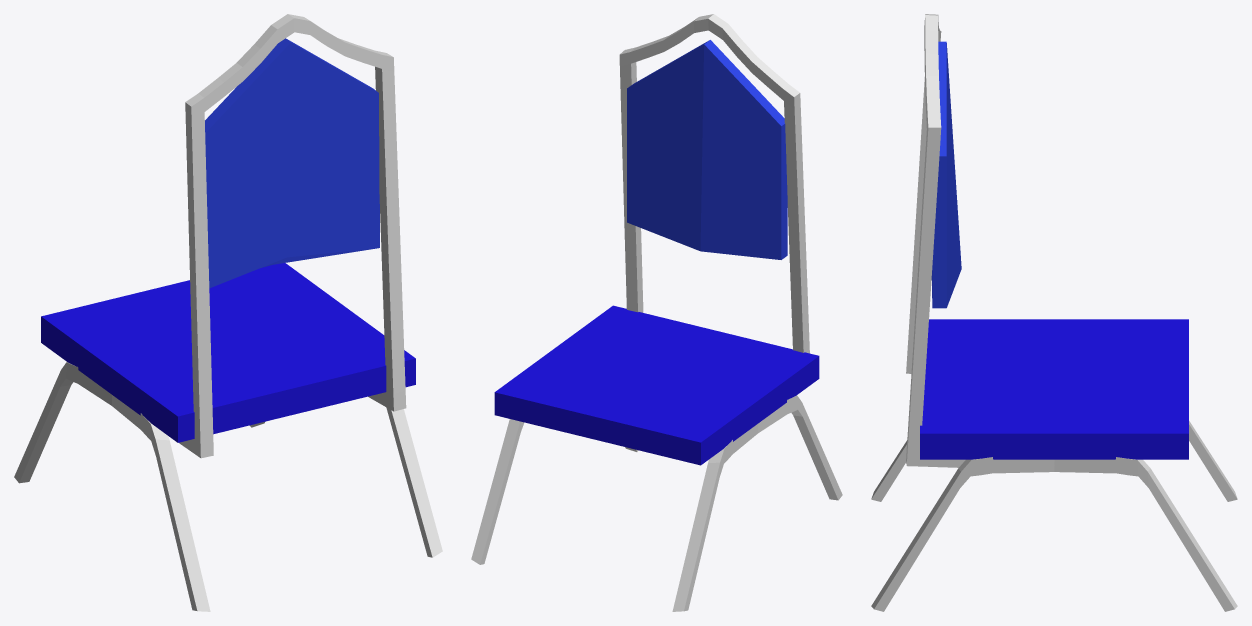
Rendered from SHAIR .fbx.
3 renders of one model, left to right at view 1: azimuth 30°, elevation 25°; view 2: azimuth 150°, elevation 25°; view 3: azimuth 270°, elevation 25°, orthographic. The views are drawn at different scales.
Visible parts, largest first — view 1: Cube.001, Cube, Cube.002; view 2: Cube.001, Cube, Cube.002; view 3: Cube.001, Cube.002, Cube.
Part boxes in pixels (x1=…): Cube.001: x1=41, y1=263, x2=415, y2=442; Cube: x1=205, y1=38, x2=379, y2=288; Cube.002: x1=14, y1=14, x2=442, y2=611; Cube.001: x1=494, y1=305, x2=819, y2=465; Cube: x1=627, y1=40, x2=787, y2=259; Cube.002: x1=471, y1=14, x2=842, y2=611; Cube.001: x1=920, y1=319, x2=1188, y2=459; Cube.002: x1=871, y1=14, x2=1237, y2=611; Cube: x1=931, y1=41, x2=961, y2=308.
Size of the model in its own units: 192 by 411 by 253.
